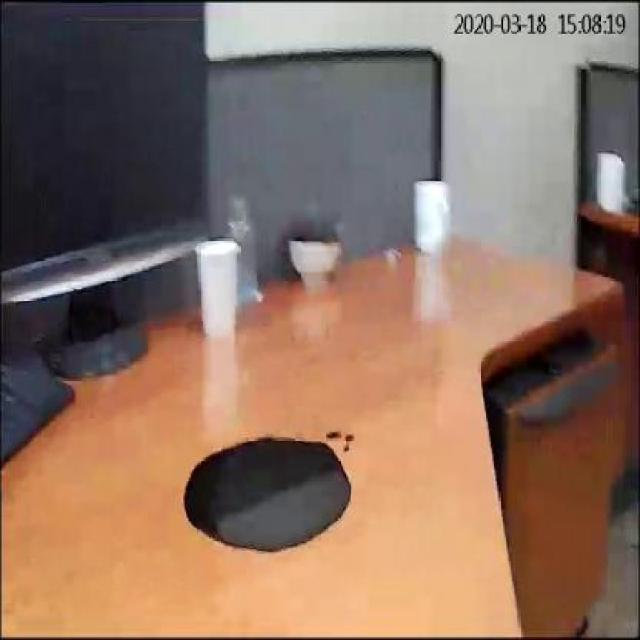spill: (185, 434, 353, 548)
